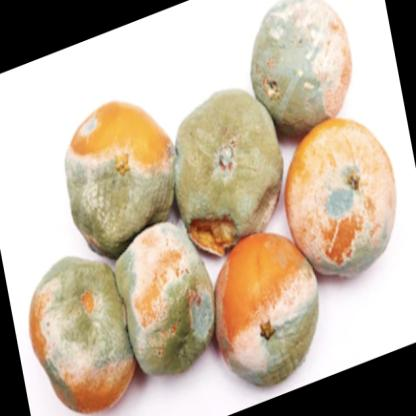rotten: (178, 89, 284, 255), (67, 99, 177, 251), (288, 123, 396, 277), (29, 259, 137, 407), (216, 237, 318, 382), (121, 223, 217, 375), (253, 1, 354, 121)
